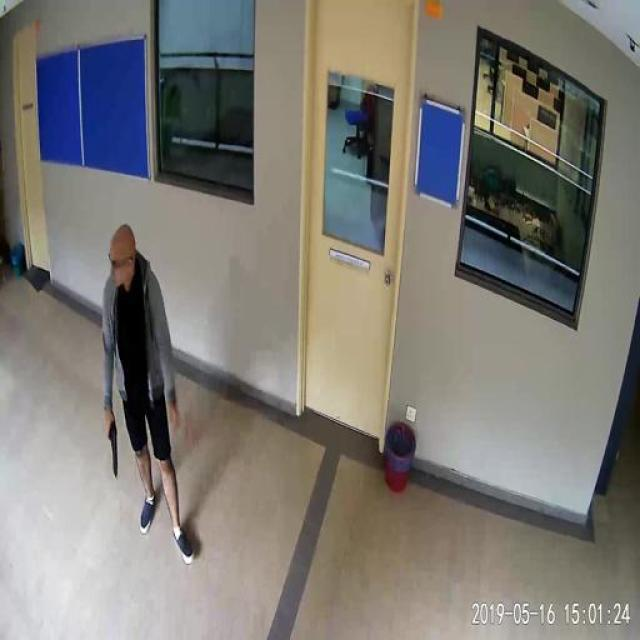Gun: (92, 410, 142, 494)
